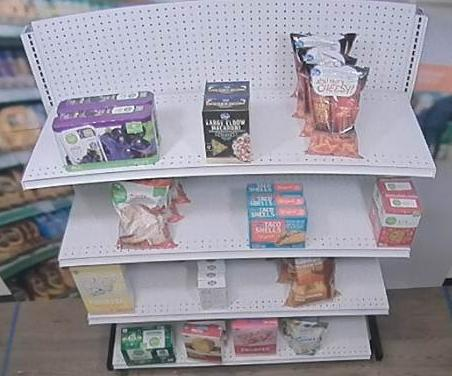stockout: (368, 71, 432, 164), (309, 177, 373, 247), (180, 180, 246, 246), (253, 76, 301, 160), (59, 185, 115, 254), (157, 81, 203, 162), (127, 262, 194, 311), (25, 103, 64, 176), (228, 262, 285, 306), (336, 260, 386, 306), (324, 319, 368, 354)
